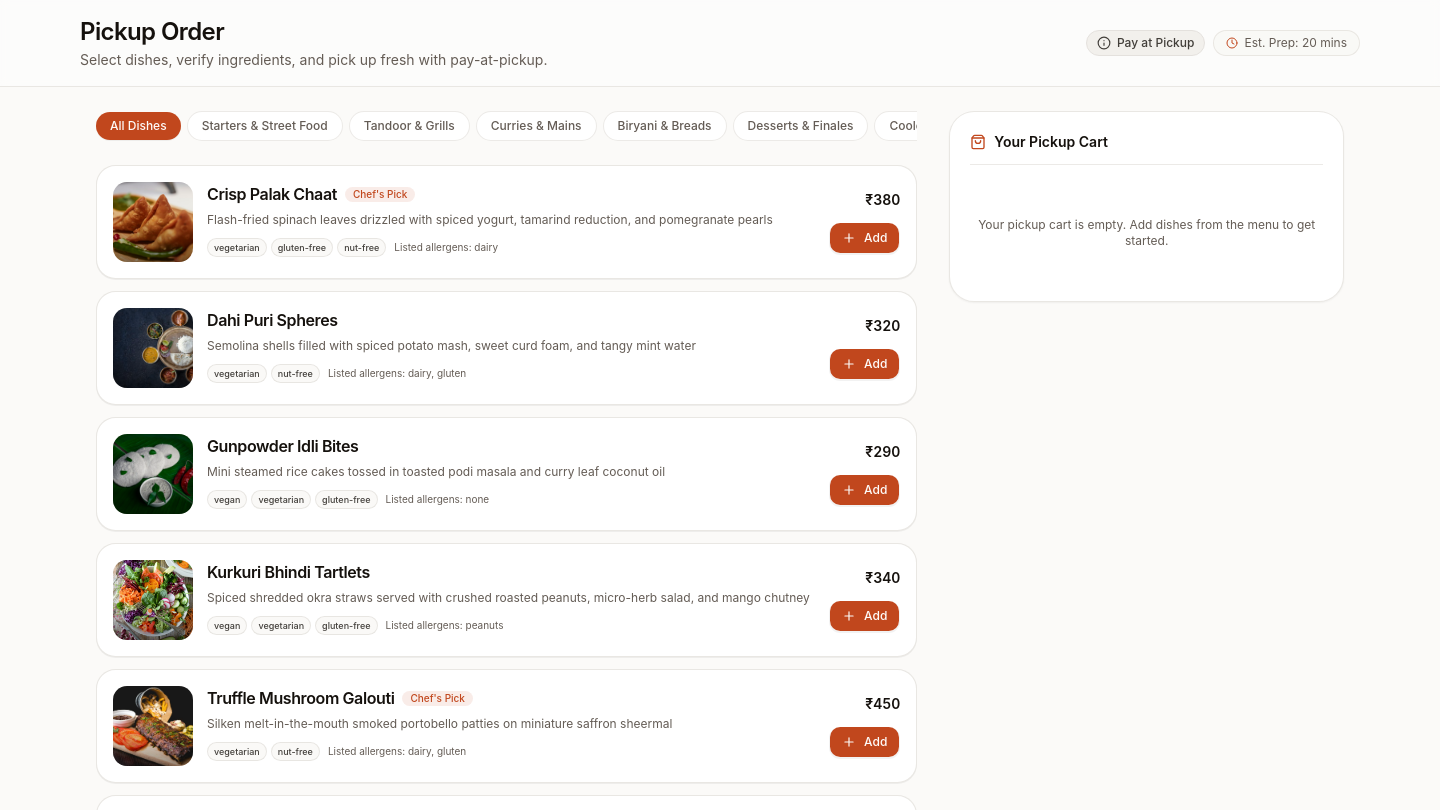
Test: Order Page (/order) › adds item to cart, increments quantity, and updates total price
// Add first item (Palak Chaat)
Click the 1st button "Add": coordinates (865, 238) [829,222,900,254]
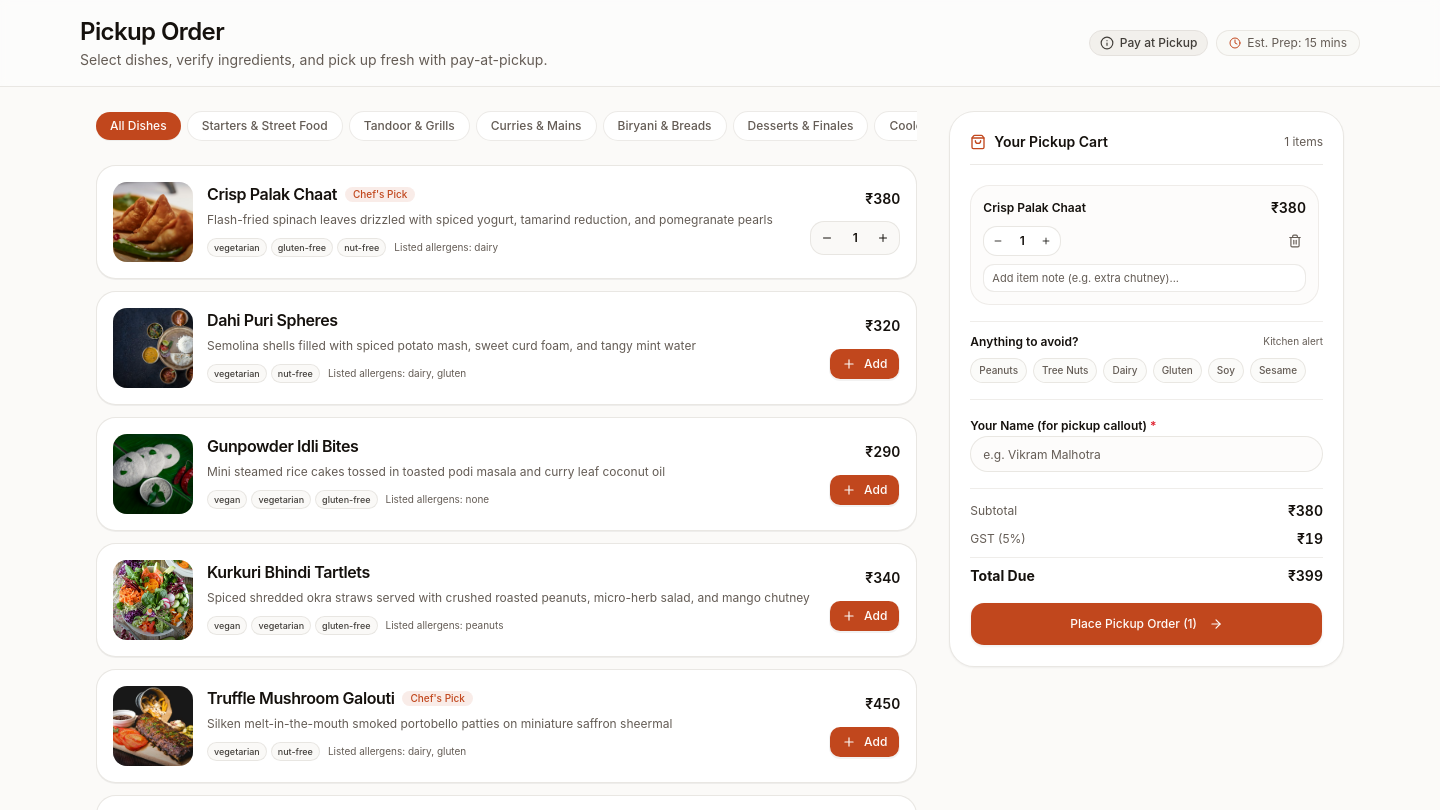
expect the heading "Crisp Palak Chaat" is shown: met, box [207,182,337,206]
expect the text "1 items" is shown: met, box [1284,134,1323,150]
// Increment quantity
Click the button named "Increase": coordinates (1046, 241) [1034,229,1058,253]
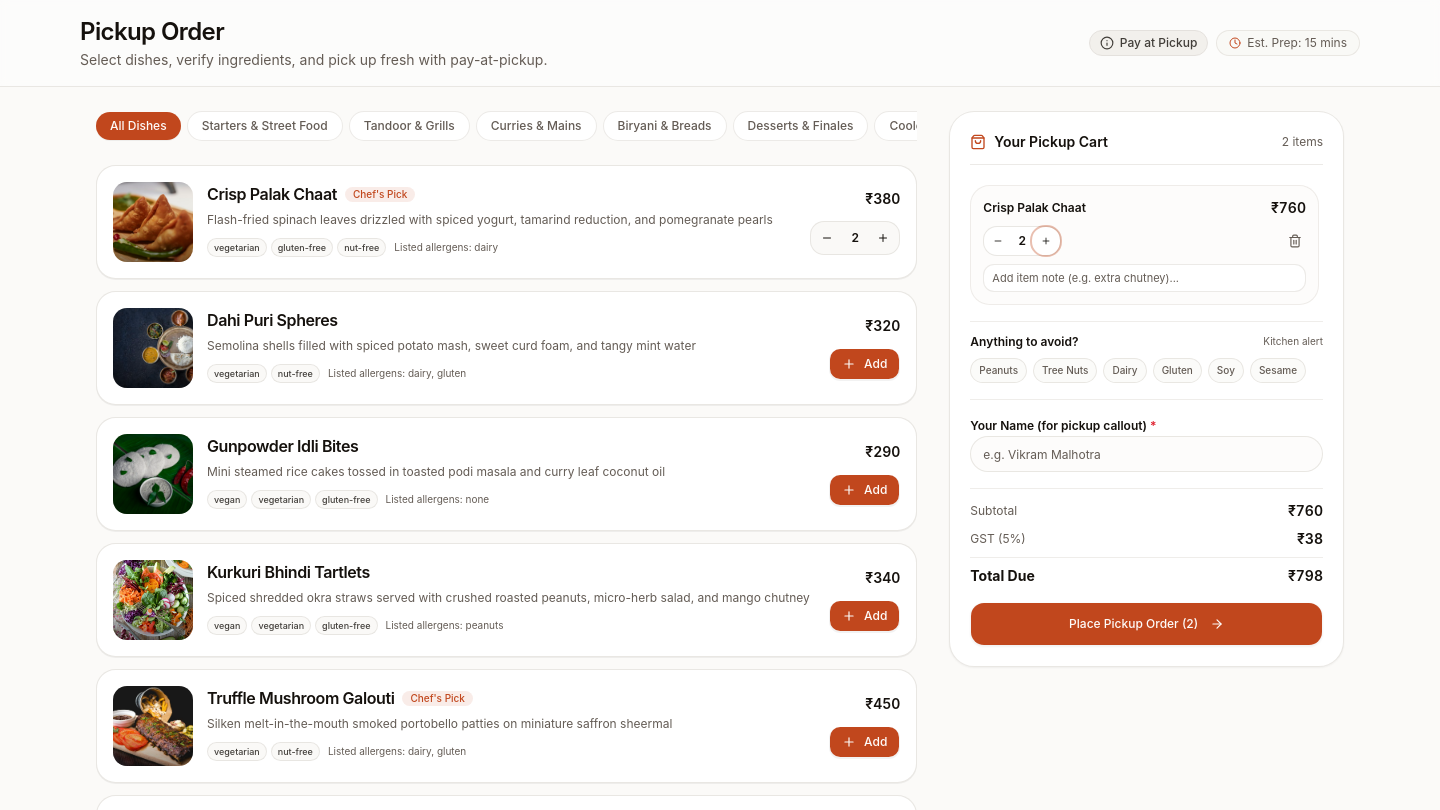
expect the text "2 items" is shown: met, box [1282,134,1323,150]
